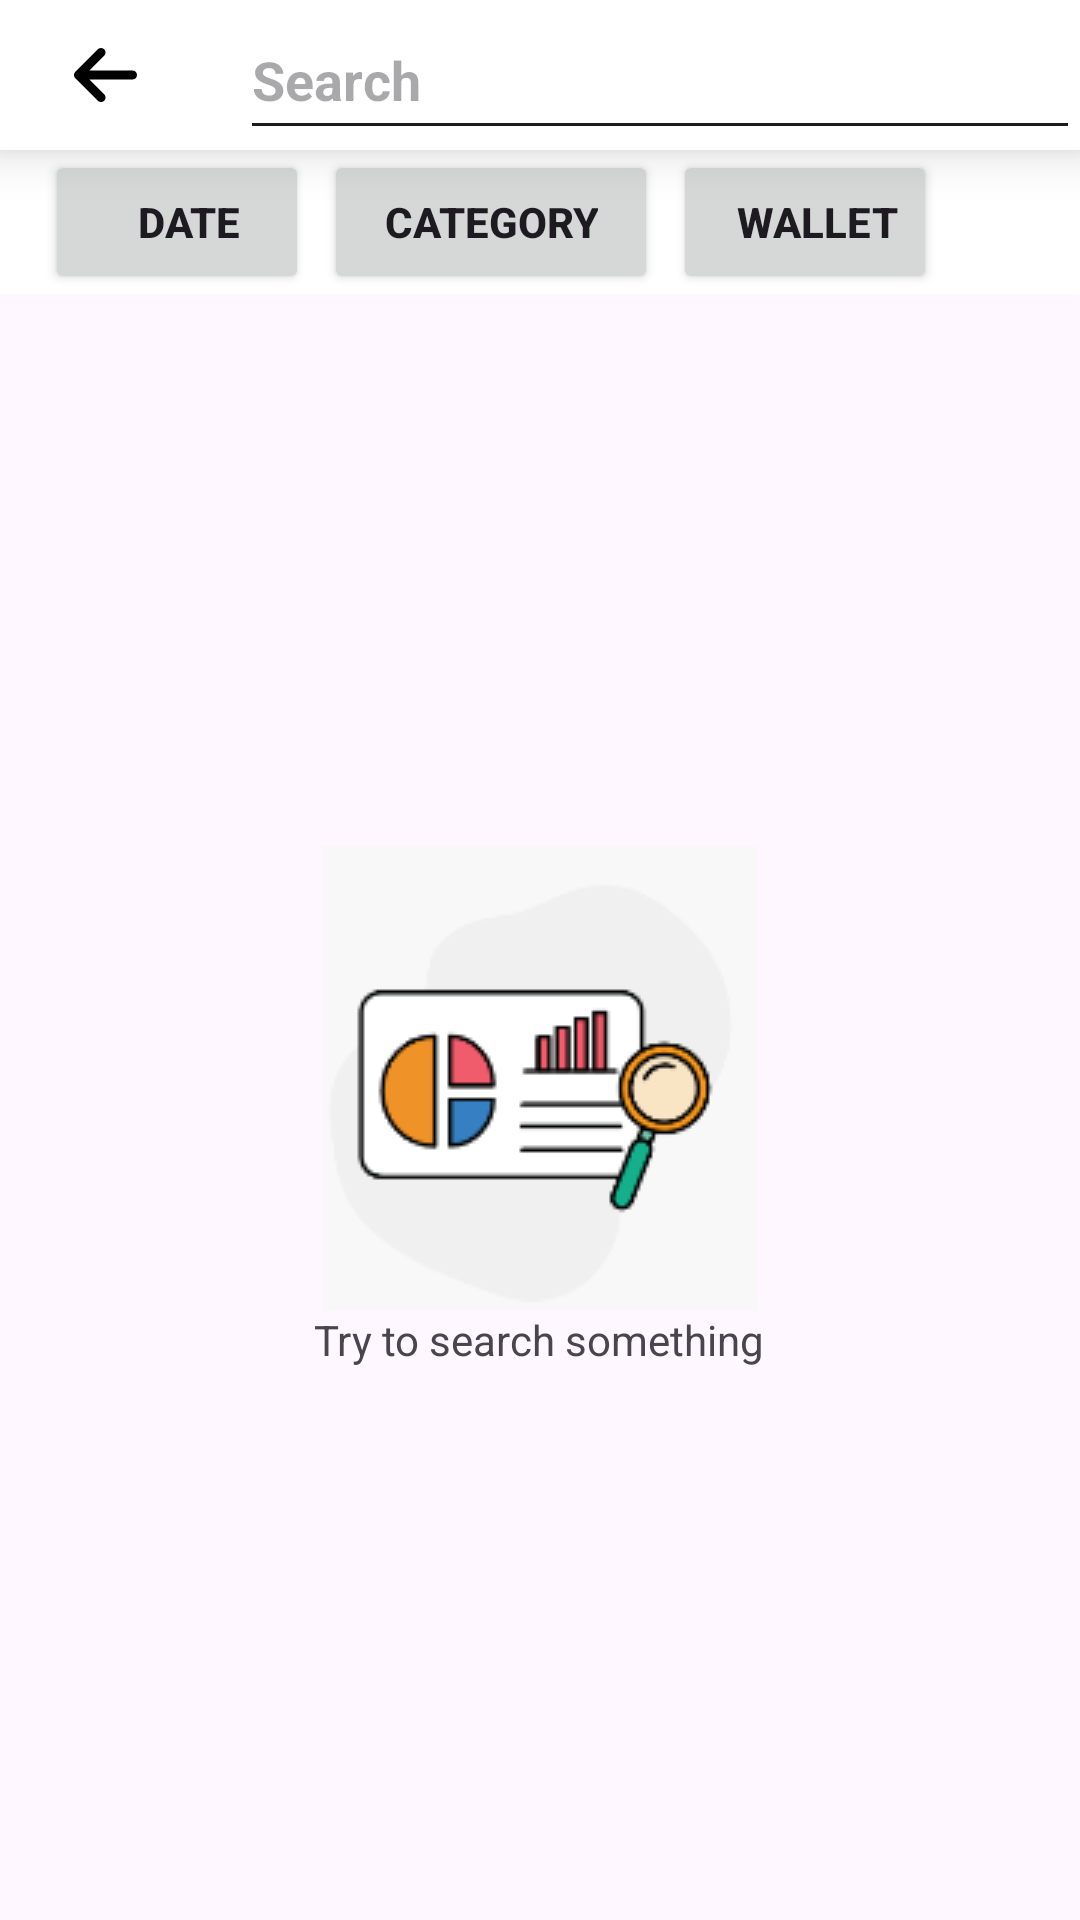

Icons on this 1080×1920 Android screen, each with its box as bbox=[x1, y1, x2, y2]:
arrow left: bbox=[74, 48, 137, 102]
no result: bbox=[357, 989, 713, 1213]
